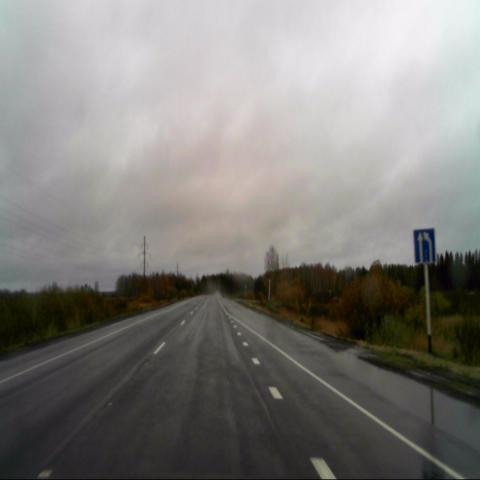5_15_5: (412, 226, 436, 263)
